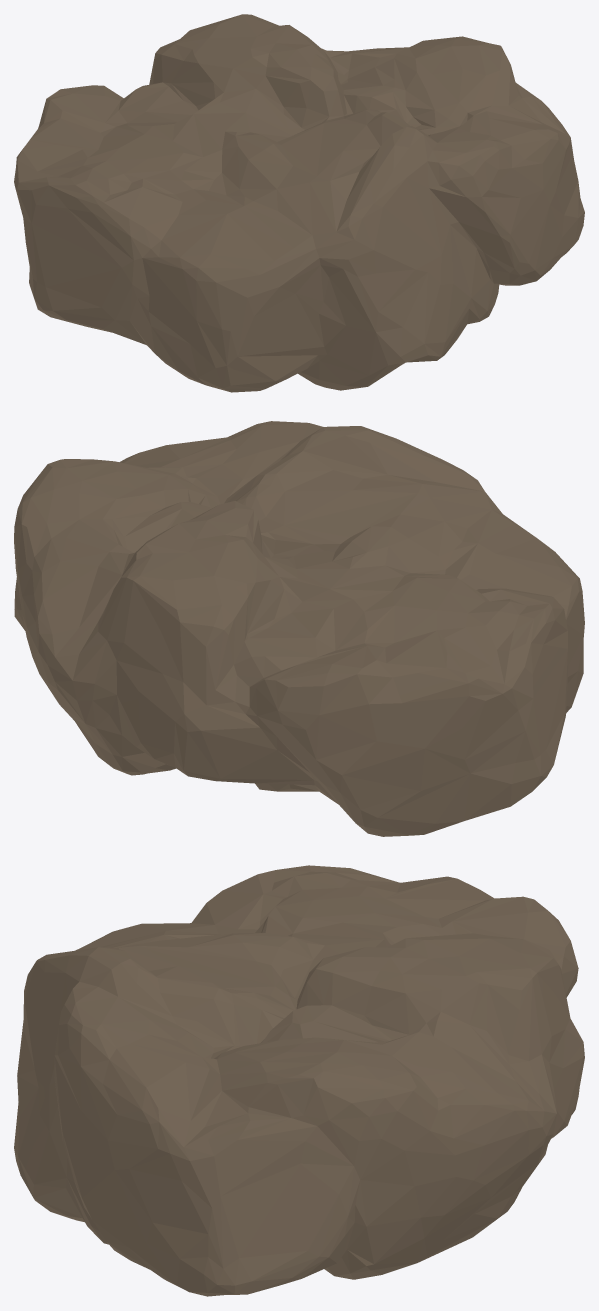
File: desert_SM_Env_Rock_Cliff_13.gltf
3 views of the same model, one above another, from view 1: azimuth 30°, elevation 25°; view 2: azimuth 150°, elevation 25°; view 3: azimuth 270°, elevation 25° (orthographic). The views are drawn at different scales.
Visible parts, largest first — view 1: SM_Env_Rock_Cliff_13; view 2: SM_Env_Rock_Cliff_13; view 3: SM_Env_Rock_Cliff_13.
Part boxes in pixels (x1=…): SM_Env_Rock_Cliff_13: x1=14, y1=14, x2=584, y2=392; SM_Env_Rock_Cliff_13: x1=14, y1=421, x2=584, y2=836; SM_Env_Rock_Cliff_13: x1=14, y1=865, x2=584, y2=1296.
Bounding box in the file's own units: 16.08 × 7.42 × 13.13.
1 material, 1 textured.
